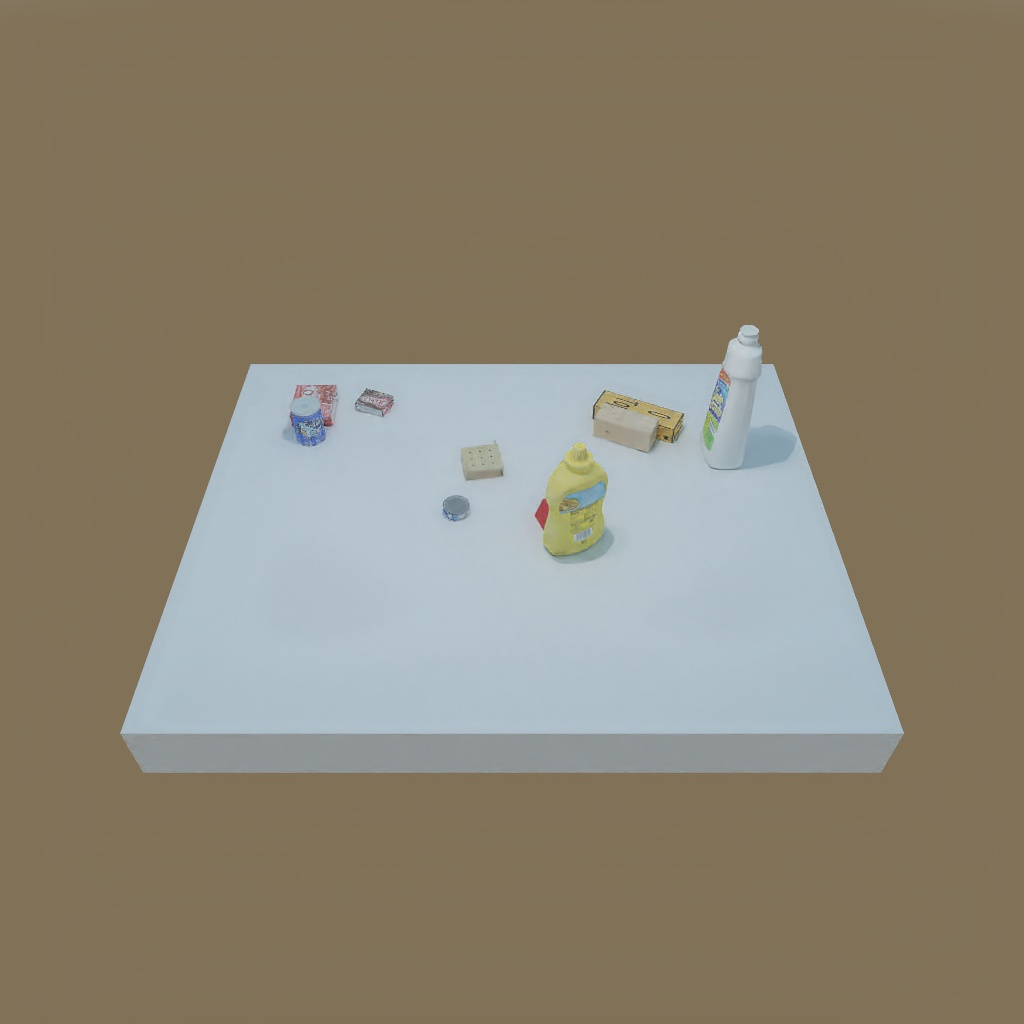gelatin_box: (293, 377, 336, 427)
jenga: (595, 385, 685, 441)
master_chef_can: (282, 394, 334, 444)
mustard_bottle: (539, 447, 610, 553)
nine_hole_peg_test: (455, 438, 507, 486)
pudding_box: (354, 387, 397, 418)
wood_block: (592, 405, 662, 457)
